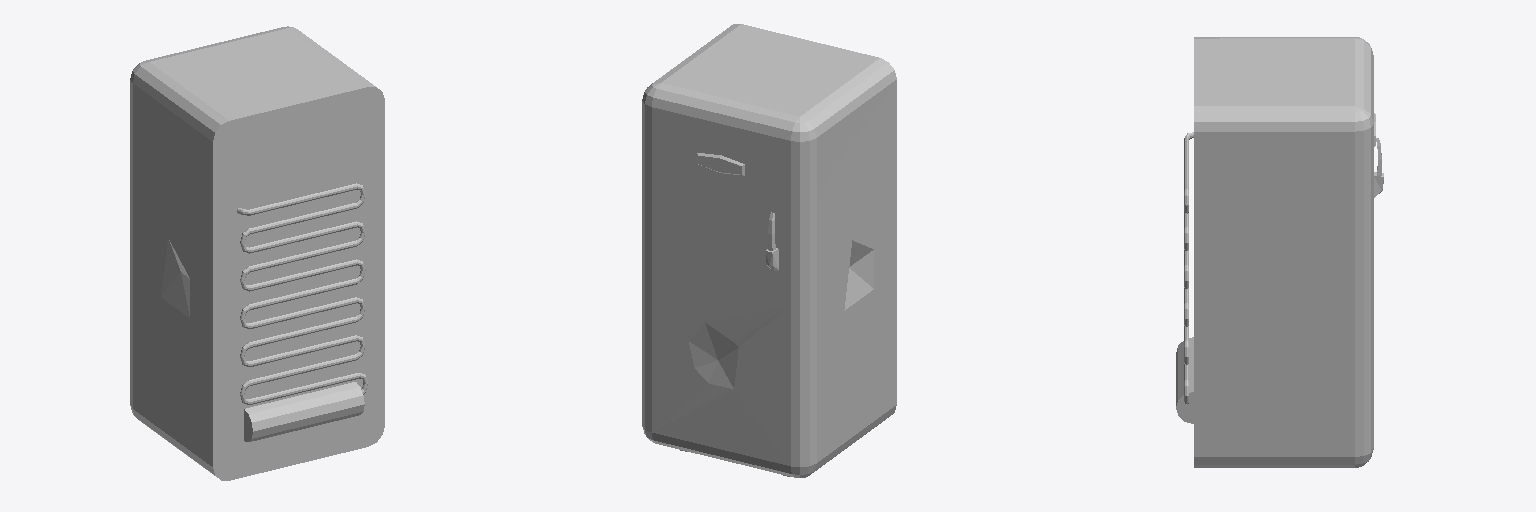
File: freezer.obj
3 views of the same model, side by side, from view 1: azimuth 30°, elevation 25°; view 2: azimuth 150°, elevation 25°; view 3: azimuth 270°, elevation 25° (orthographic).
Parts seen in each view (by area): view 1: 1, 0; view 2: 1; view 3: 1, 0.
Boxes of the visible parts, x1=… form: 1: x1=130, y1=26, x2=384, y2=480; 0: x1=237, y1=183, x2=367, y2=441; 1: x1=642, y1=24, x2=896, y2=477; 1: x1=1194, y1=37, x2=1383, y2=467; 0: x1=1176, y1=132, x2=1193, y2=423.
Size of the model in its own units: 1 by 2.04 by 1.05.